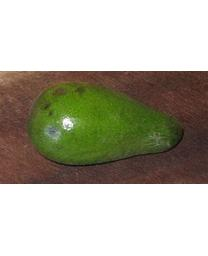avocado: (28, 82, 186, 167)
